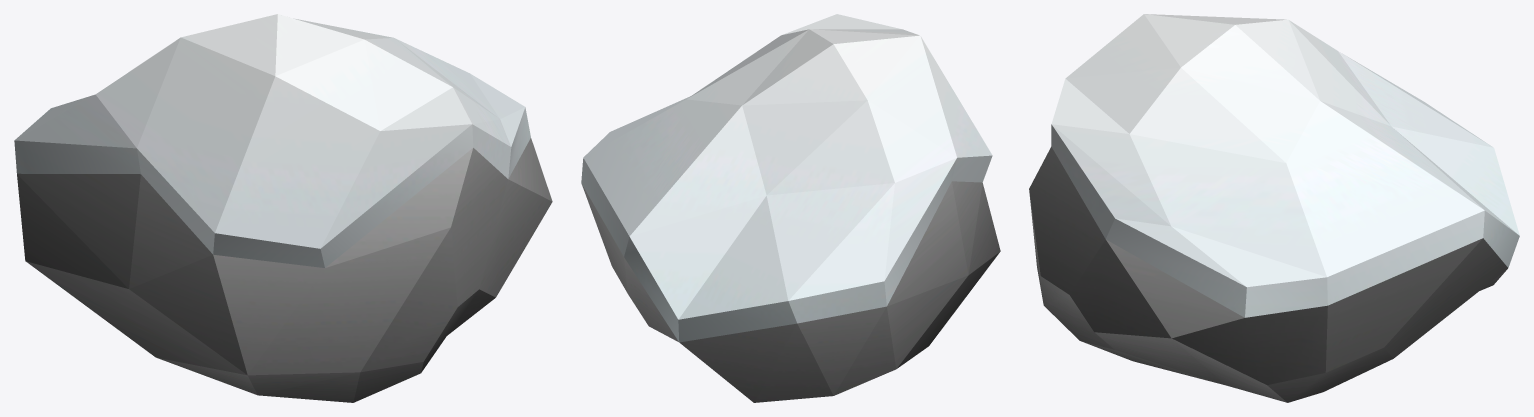
3 views of the same model, side by side, from view 1: azimuth 30°, elevation 25°; view 2: azimuth 150°, elevation 25°; view 3: azimuth 270°, elevation 25° (orthographic). The views are drawn at different scales.
Parts seen in each view (by area): view 1: SnowyRock1; view 2: SnowyRock1; view 3: SnowyRock1.
Part boxes in pixels (x1,y1,x2,y2): SnowyRock1: (14, 14, 552, 402); SnowyRock1: (581, 14, 1000, 402); SnowyRock1: (1029, 14, 1519, 402).
Bounding box in the file's own units: 4.5 × 3.61 × 4.9.
1 material, 1 textured.
